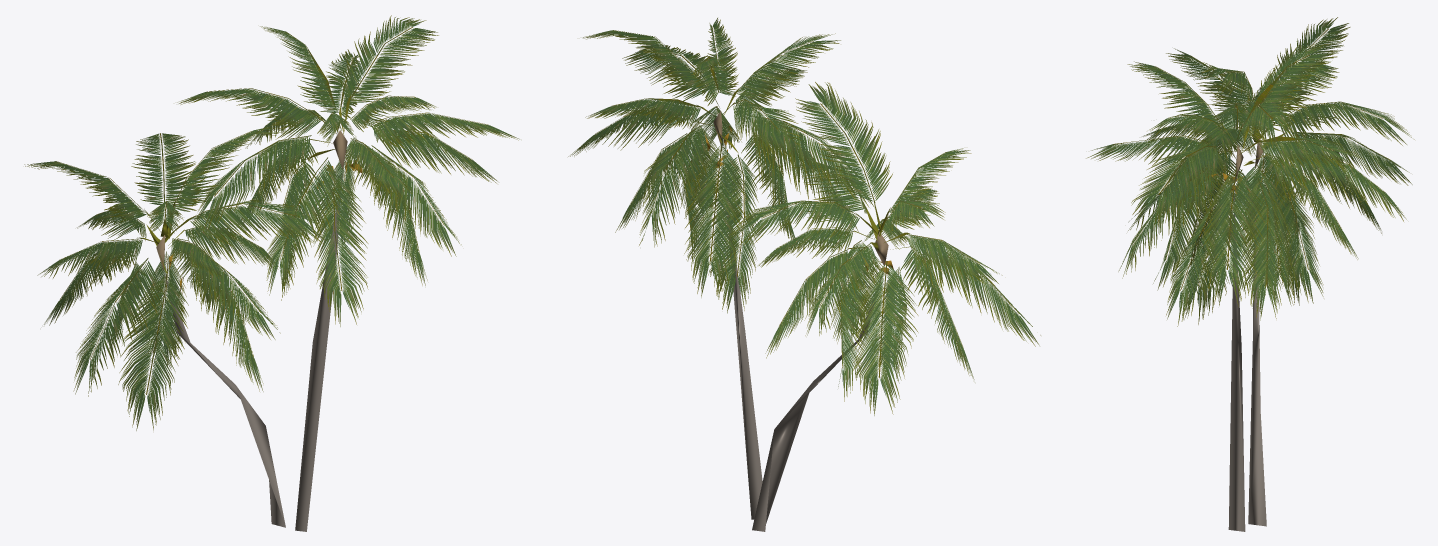
The model's file is coconut-palm.lod1.glb.
3 views of the same model, side by side, from view 1: azimuth 30°, elevation 25°; view 2: azimuth 150°, elevation 25°; view 3: azimuth 270°, elevation 25° (orthographic). The views are drawn at different scales.
Visible parts, largest first — view 1: Tree_2_Tree_2Mat_0, Tree_0_Tree_0Mat_0; view 2: Tree_2_Tree_2Mat_0, Tree_0_Tree_0Mat_0; view 3: Tree_2_Tree_2Mat_0, Tree_0_Tree_0Mat_0.
Boxes of the visible parts, bbox=[...] form: Tree_2_Tree_2Mat_0: bbox=[24, 15, 519, 430]; Tree_0_Tree_0Mat_0: bbox=[137, 95, 362, 531]; Tree_2_Tree_2Mat_0: bbox=[568, 18, 1040, 415]; Tree_0_Tree_0Mat_0: bbox=[697, 88, 911, 531]; Tree_2_Tree_2Mat_0: bbox=[1086, 17, 1414, 326]; Tree_0_Tree_0Mat_0: bbox=[1204, 110, 1285, 531].
Bounding box in the file's own units: 9.02 × 8.94 × 5.76.
2 materials, 1 textured.
